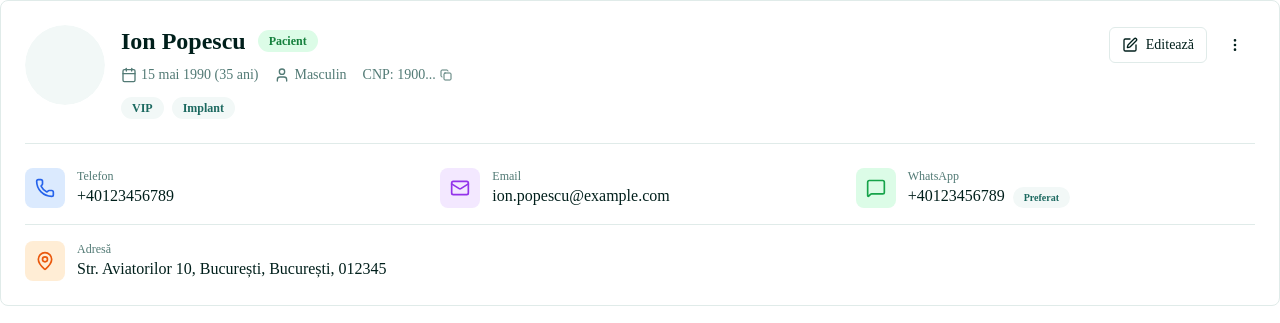
Scenario: PatientHeader › should render dropdown menu
The width and height of the screenshot is (1280, 323).
Click the 2nd button at x=1235, y=45, box 1215,25 -> 1255,65
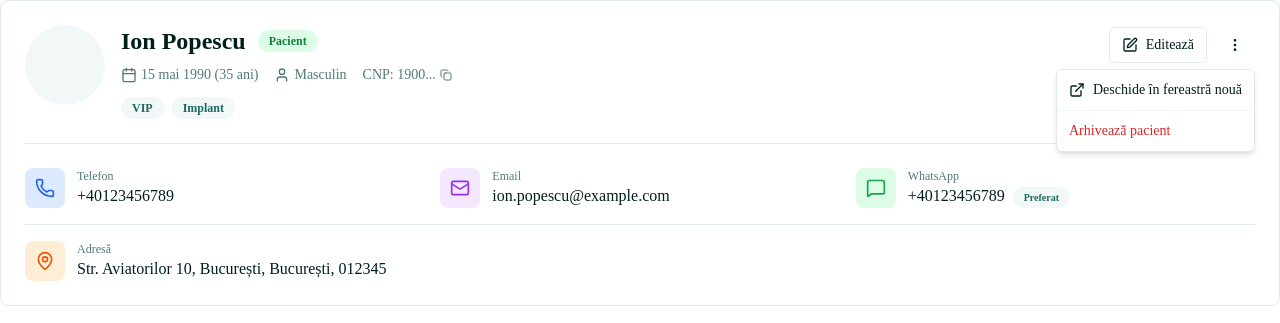
Result: the menu item "Deschide în fereastră nouă" is shown at 1069,82 -> 1242,98
Result: the menu item "Arhivează pacient" is shown at 1069,123 -> 1170,138
